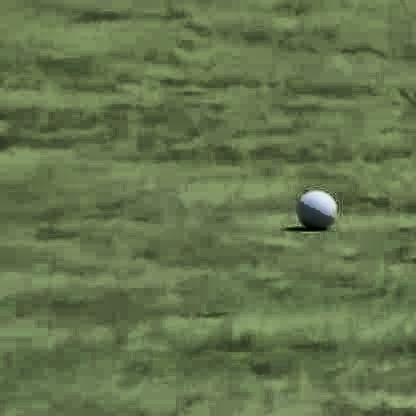golfball: (295, 185, 332, 224)
